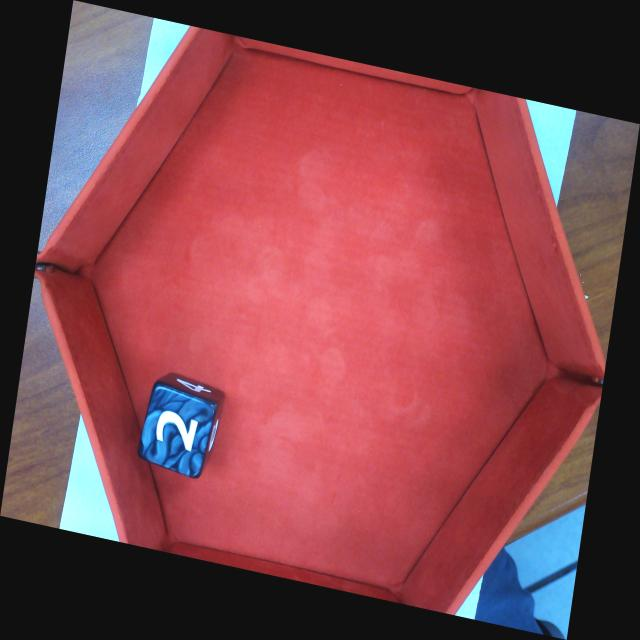dice: (139, 382, 222, 483)
